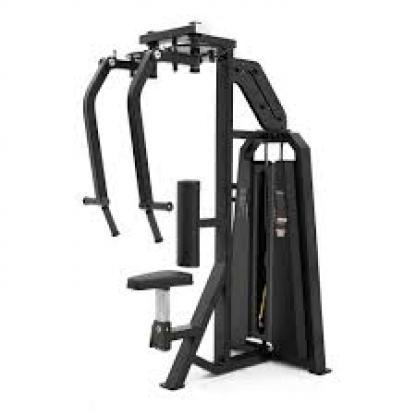chest fly machine: (50, 13, 358, 400)
